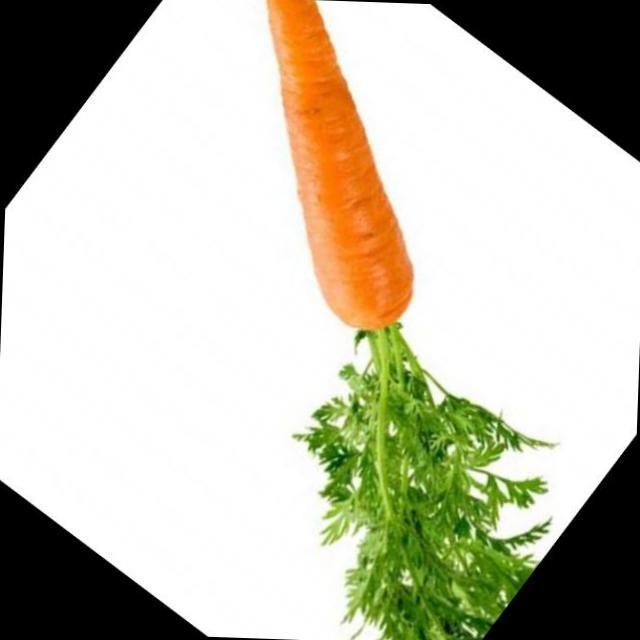carrot: (9, 0, 640, 510)
